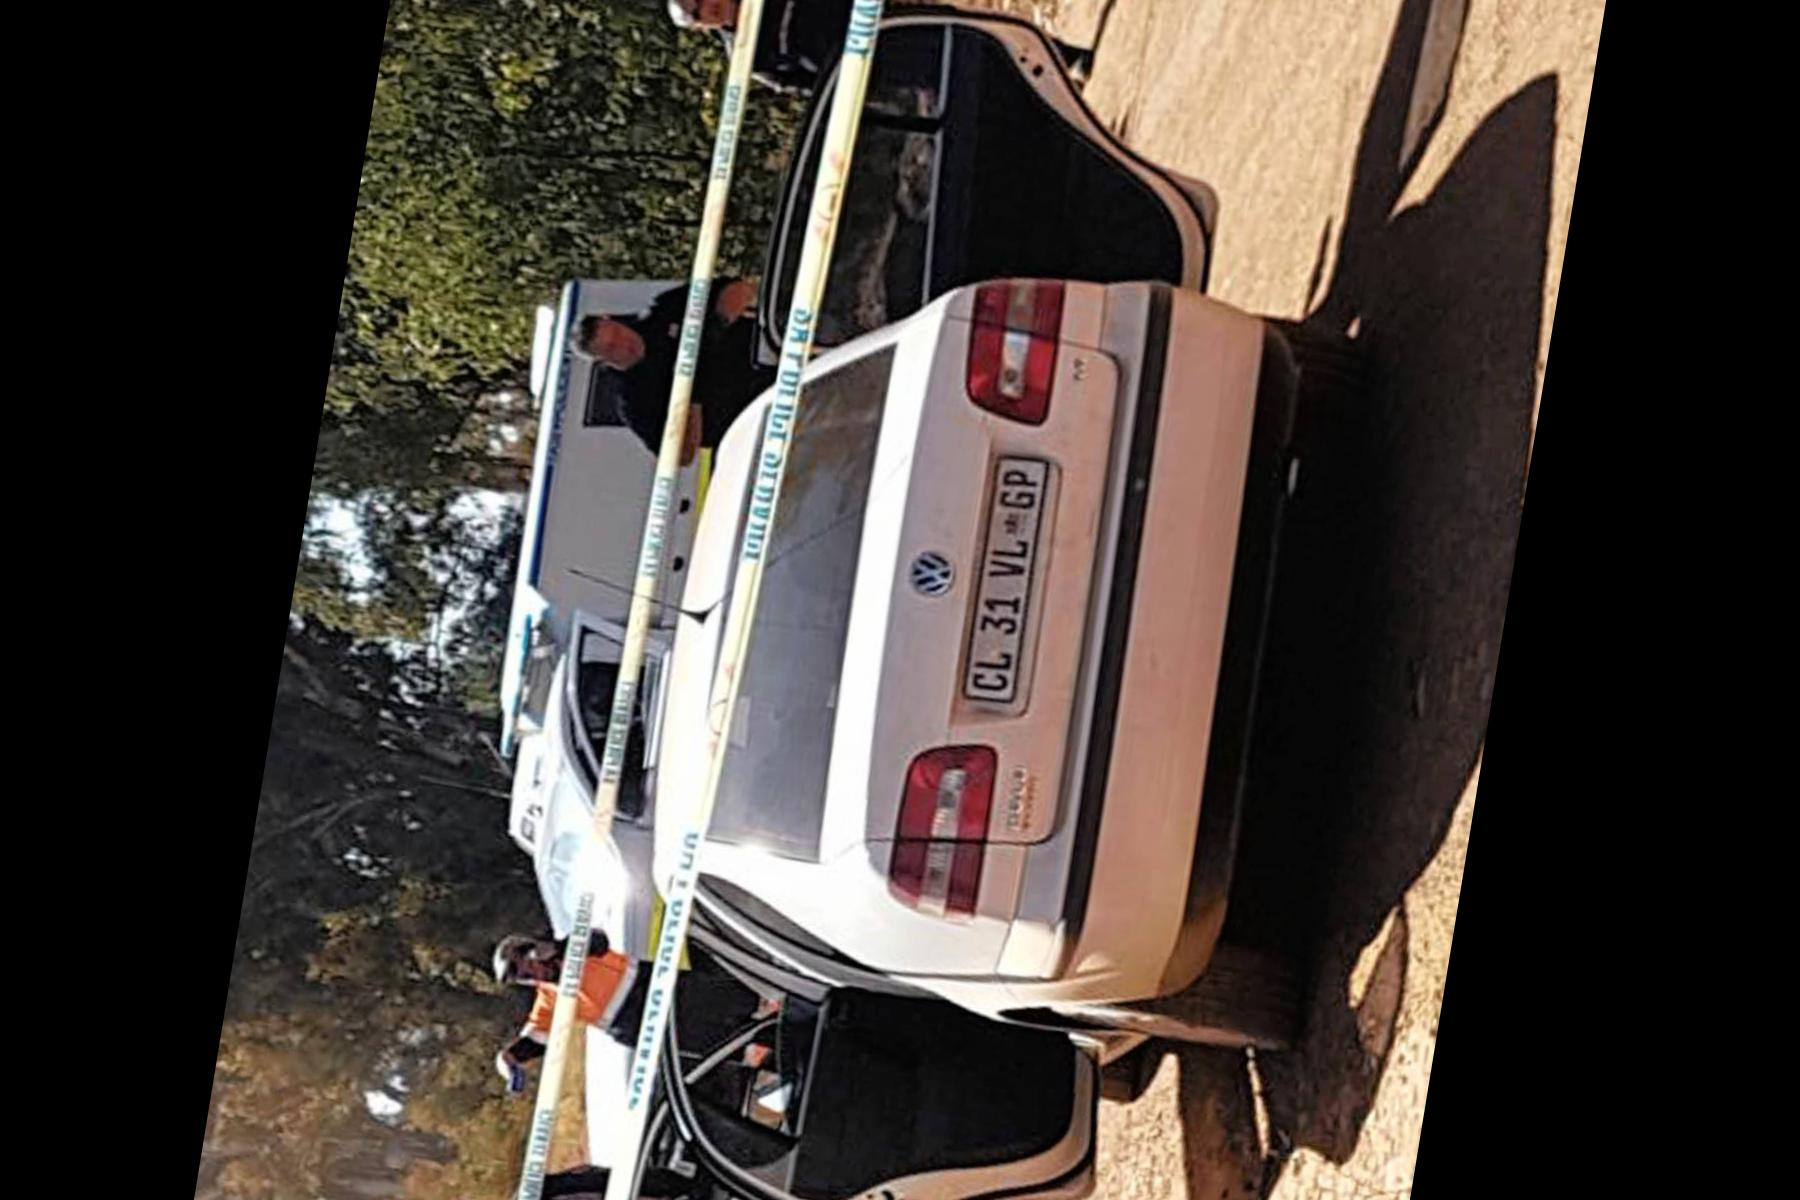plate: (931, 431, 1069, 737)
